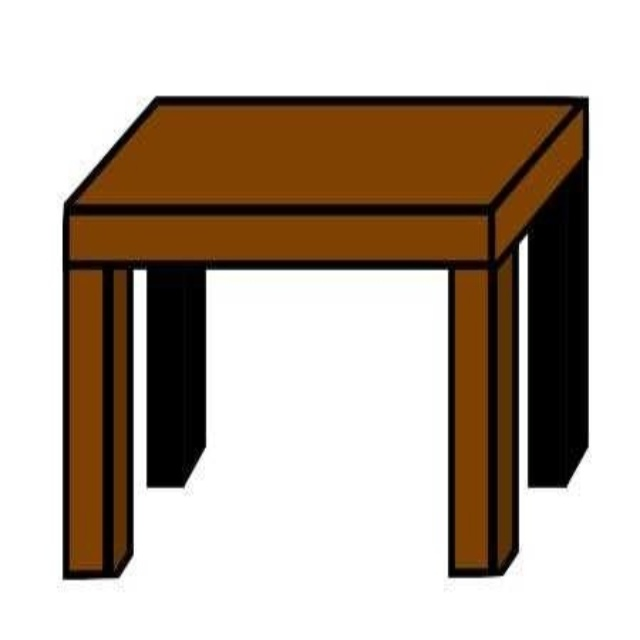obstacle: (64, 98, 587, 576)
